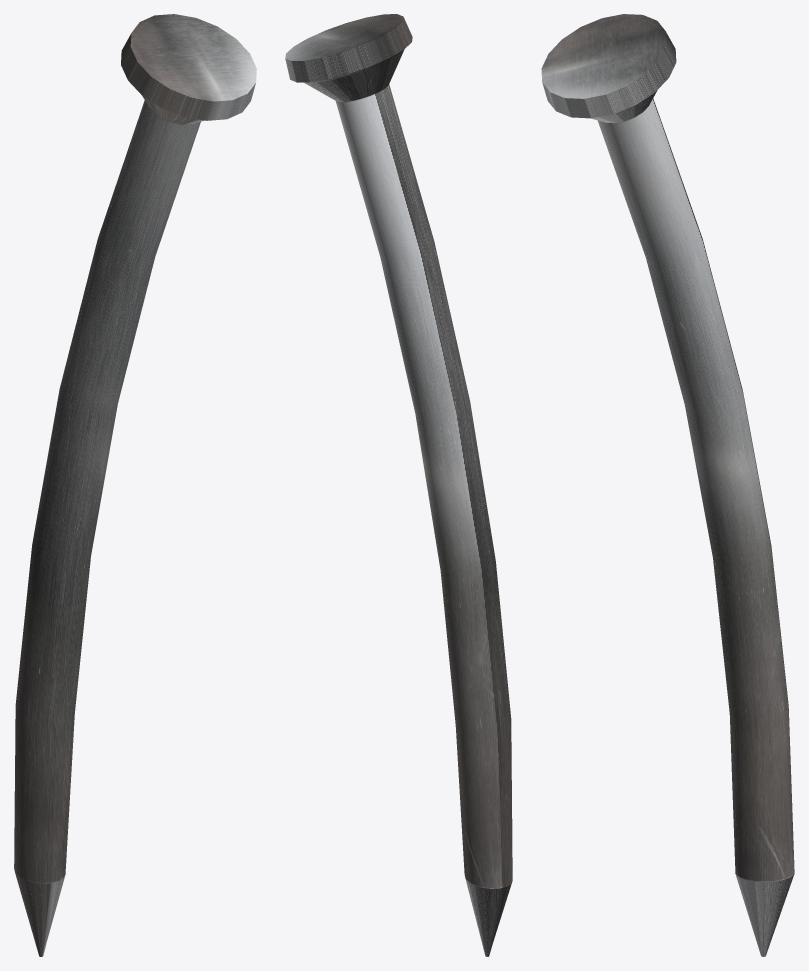
The model's file is Nail_Bended.FBX.
3 renders of one model, left to right at view 1: azimuth 30°, elevation 25°; view 2: azimuth 210°, elevation 25°; view 3: azimuth 270°, elevation 25°, orthographic. The views are drawn at different scales.
Visible parts, largest first — view 1: nail; view 2: nail; view 3: nail.
Part boxes in pixels (left/top/right/bottom): nail: left=14, top=14, right=256, bottom=956; nail: left=285, top=14, right=512, bottom=956; nail: left=541, top=14, right=794, bottom=956.
Size of the model in its own units: 5.89 by 35.21 by 8.43.
1 material, 1 textured.
